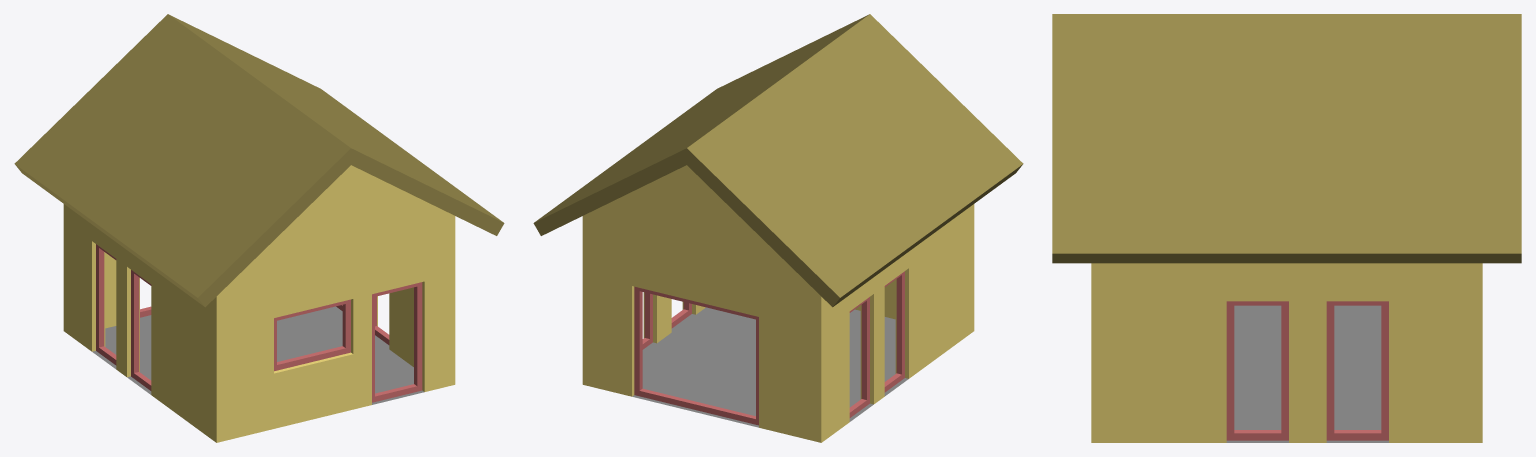
The model's file is result.glb.
3 views of the same model, side by side, from view 1: azimuth 30°, elevation 25°; view 2: azimuth 150°, elevation 25°; view 3: azimuth 270°, elevation 25° (orthographic). The views are drawn at different scales.
Visible parts, largest first — view 1: 474262d9-dca5-414c-b6a9-efec3fe5a0db__undefined (×2), af9df851-6776-4d20-ae8a-fbc72a7c74cd__undefined, 843ab385-fcf0-4bee-839b-4be9c20d71e8__Plane_8, ba92516f-5b68-40ef-98c3-204625406c3f__Box, 0ec4f641-bb8b-4bf5-9e35-618441951c1c__Box_3, fe0ed851-5b6c-4010-a57f-da61ee47c67a__Box_15, 5fd67111-1c96-4b85-8266-63d0ef35257b__Box_12; view 2: 474262d9-dca5-414c-b6a9-efec3fe5a0db__undefined (×2), af9df851-6776-4d20-ae8a-fbc72a7c74cd__undefined, 843ab385-fcf0-4bee-839b-4be9c20d71e8__Plane_8, a7efa6bd-7be8-4825-819c-3aa173c16cf1__Box_9, 5fd67111-1c96-4b85-8266-63d0ef35257b__Box_12, fe0ed851-5b6c-4010-a57f-da61ee47c67a__Box_15, 5f09b306-b8fc-4f78-9544-10e4252356c2__Box_21; view 3: 474262d9-dca5-414c-b6a9-efec3fe5a0db__undefined, af9df851-6776-4d20-ae8a-fbc72a7c74cd__undefined, 843ab385-fcf0-4bee-839b-4be9c20d71e8__Plane_8, 14b5692e-7827-4f13-bb94-1a7f658f876d__Box_18, 5f09b306-b8fc-4f78-9544-10e4252356c2__Box_21.
Boxes of the visible parts, box(x1,y1,x2,y2) form: 474262d9-dca5-414c-b6a9-efec3fe5a0db__undefined (×2): box(14, 14, 504, 307); af9df851-6776-4d20-ae8a-fbc72a7c74cd__undefined: box(63, 165, 455, 442); 843ab385-fcf0-4bee-839b-4be9c20d71e8__Plane_8: box(92, 306, 424, 404); ba92516f-5b68-40ef-98c3-204625406c3f__Box: box(372, 282, 422, 402); 0ec4f641-bb8b-4bf5-9e35-618441951c1c__Box_3: box(274, 299, 350, 371); fe0ed851-5b6c-4010-a57f-da61ee47c67a__Box_15: box(96, 244, 116, 365); 5fd67111-1c96-4b85-8266-63d0ef35257b__Box_12: box(131, 270, 151, 390); 474262d9-dca5-414c-b6a9-efec3fe5a0db__undefined (×2): box(533, 14, 1023, 307); af9df851-6776-4d20-ae8a-fbc72a7c74cd__undefined: box(582, 165, 974, 442); 843ab385-fcf0-4bee-839b-4be9c20d71e8__Plane_8: box(632, 307, 908, 427); a7efa6bd-7be8-4825-819c-3aa173c16cf1__Box_9: box(634, 286, 758, 425); 5fd67111-1c96-4b85-8266-63d0ef35257b__Box_12: box(884, 271, 904, 392); fe0ed851-5b6c-4010-a57f-da61ee47c67a__Box_15: box(849, 297, 869, 417); 5f09b306-b8fc-4f78-9544-10e4252356c2__Box_21: box(642, 292, 652, 349); 474262d9-dca5-414c-b6a9-efec3fe5a0db__undefined: box(1052, 14, 1521, 263); af9df851-6776-4d20-ae8a-fbc72a7c74cd__undefined: box(1091, 263, 1482, 442); 843ab385-fcf0-4bee-839b-4be9c20d71e8__Plane_8: box(1226, 305, 1388, 442); 14b5692e-7827-4f13-bb94-1a7f658f876d__Box_18: box(1226, 301, 1288, 440); 5f09b306-b8fc-4f78-9544-10e4252356c2__Box_21: box(1326, 301, 1388, 440).
Bounding box in the file's own units: 580 × 500 × 600.
